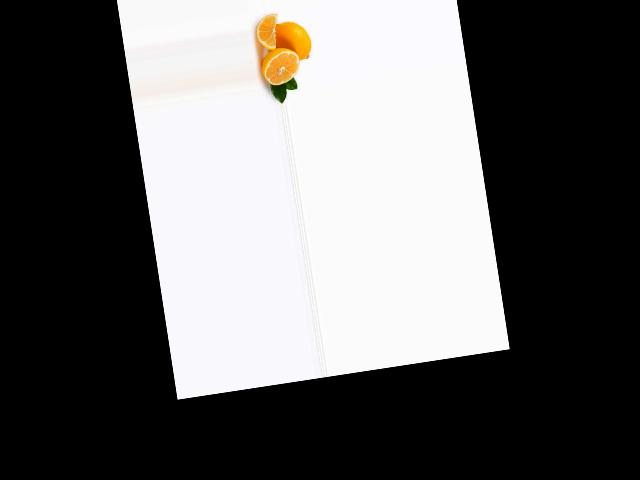lemon: (267, 17, 314, 67)
